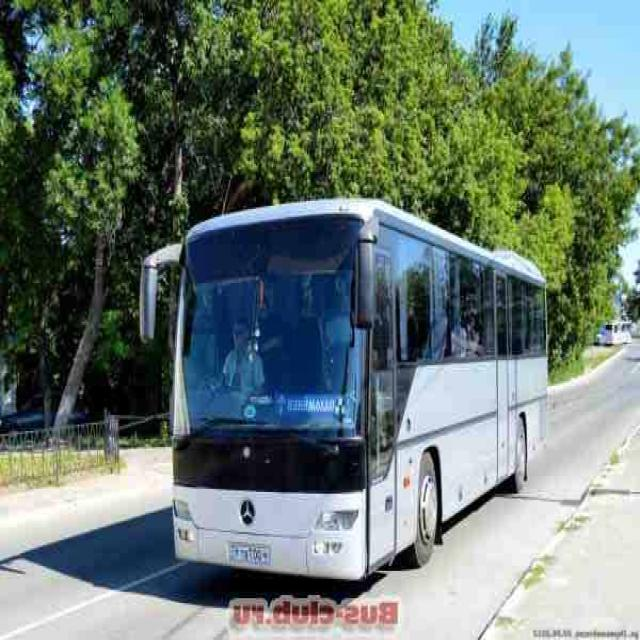bus: (140, 197, 555, 588)
